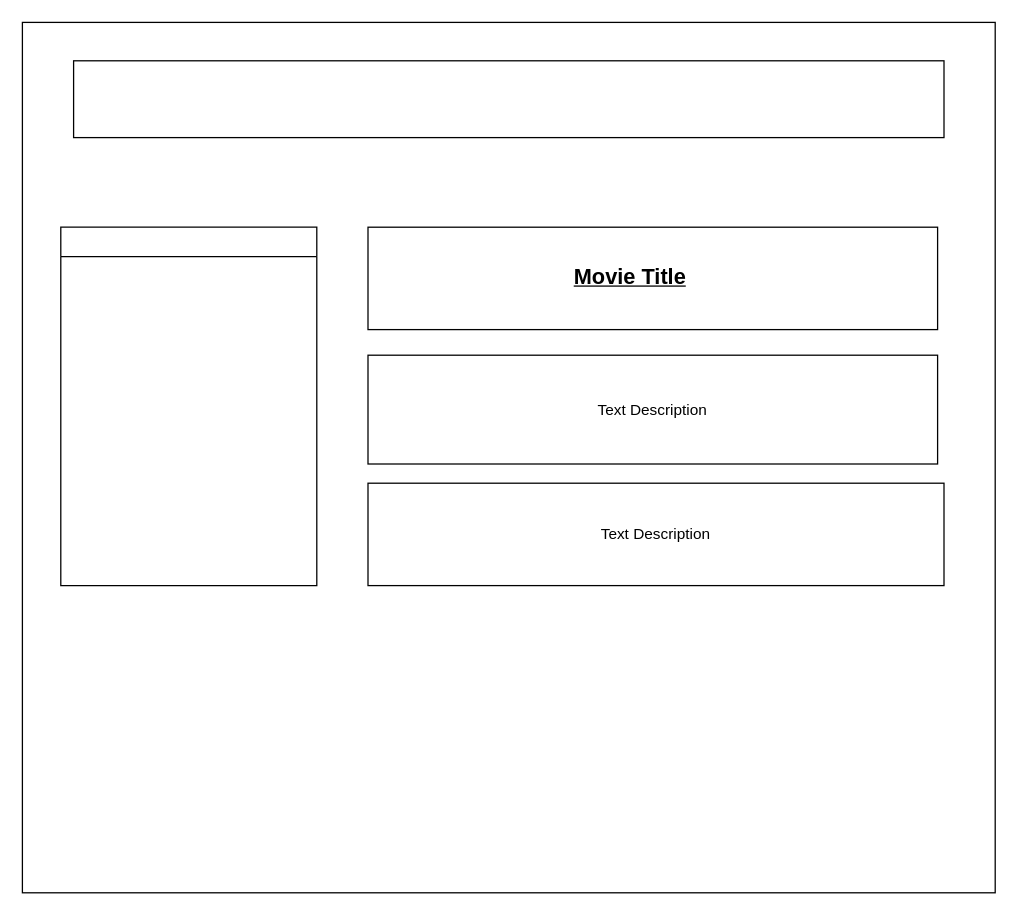
Some shapes in this 1018 by 915 pixel diagram are drawn without their labels. The box of each missing label's shape, as (x1, y1, x2, y2) in pixels:
Netflix and Chill: (72, 60, 944, 138)
Vertical Container: (60, 226, 317, 586)
